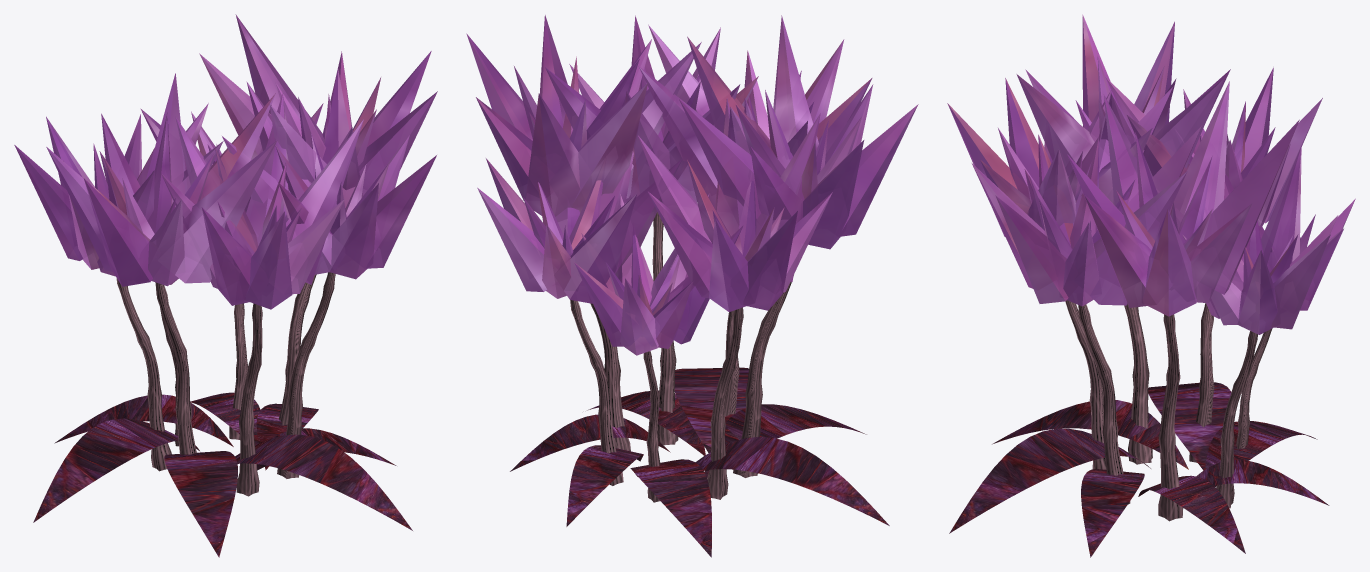
The model's file is crystal_01.glb.
3 renders of one model, left to right at view 1: azimuth 30°, elevation 25°; view 2: azimuth 150°, elevation 25°; view 3: azimuth 270°, elevation 25°, orthographic. The views are drawn at different scales.
Parts seen in each view (by area): view 1: export; view 2: export; view 3: export.
Part boxes in pixels (left/top/right/bottom): export: left=14, top=14, right=437, bottom=557; export: left=466, top=15, right=918, bottom=557; export: left=947, top=14, right=1355, bottom=557.
Size of the model in its own units: 1.14 by 1.09 by 0.9726.
3 materials, 3 textured.
